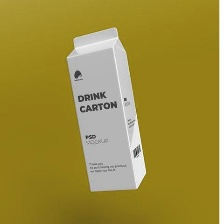carton: (63, 24, 149, 194)
